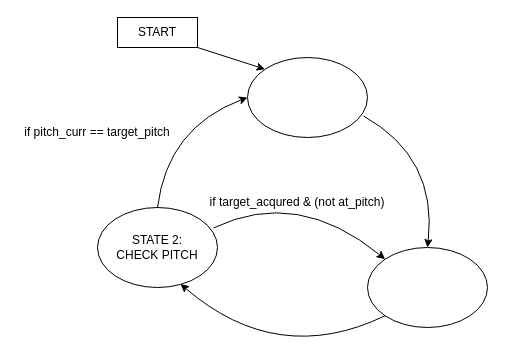
This 505x354 diagram has some shape labels left out. Each missing label, with the centre of its shape:
"STATE 0: SLEEP" goes at point (307, 97).
"STATE 1: MOVE PITCH" goes at point (427, 287).
